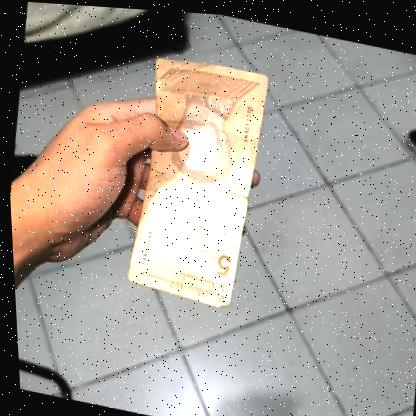five-front-vef: (115, 46, 277, 311)
